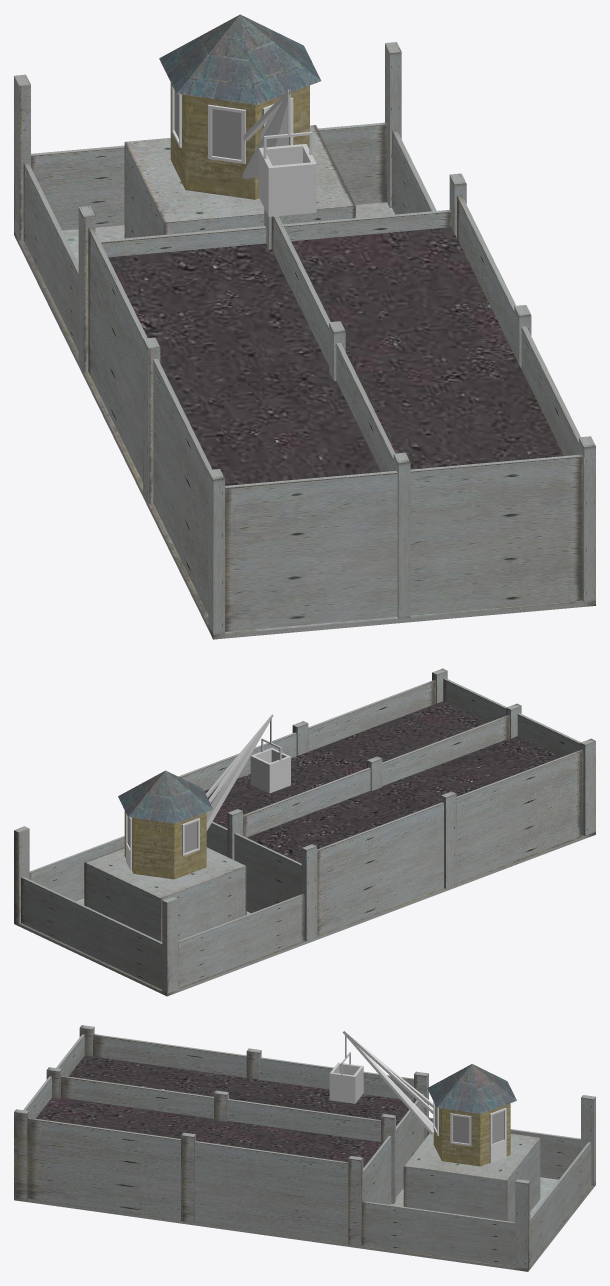
Rendered from GMLID_0528986_170479_94.gltf.
3 views of the same model, one above another, from view 1: azimuth 30°, elevation 25°; view 2: azimuth 150°, elevation 25°; view 3: azimuth 270°, elevation 25° (orthographic). The views are drawn at different scales.
Parts seen in each view (by area): view 1: Z_UP; view 2: Z_UP; view 3: Z_UP.
Boxes of the visible parts, bbox=[...] form: Z_UP: bbox=[14, 14, 595, 639]; Z_UP: bbox=[14, 668, 595, 996]; Z_UP: bbox=[14, 1025, 595, 1271].
Size of the model in its own units: 16.63 by 8.18 by 25.8.
Materials: 5 (1 with a texture image).
